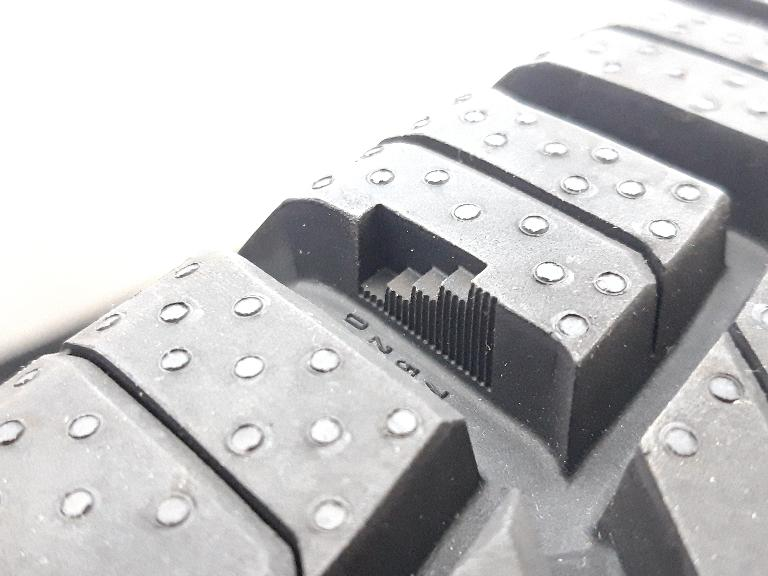temoin:100: (344, 194, 507, 403)
